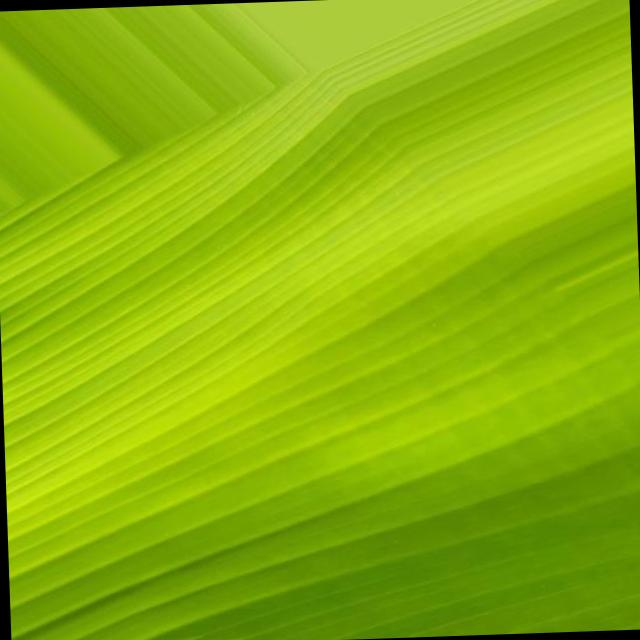Banana_Healthy: (165, 177, 524, 550)
